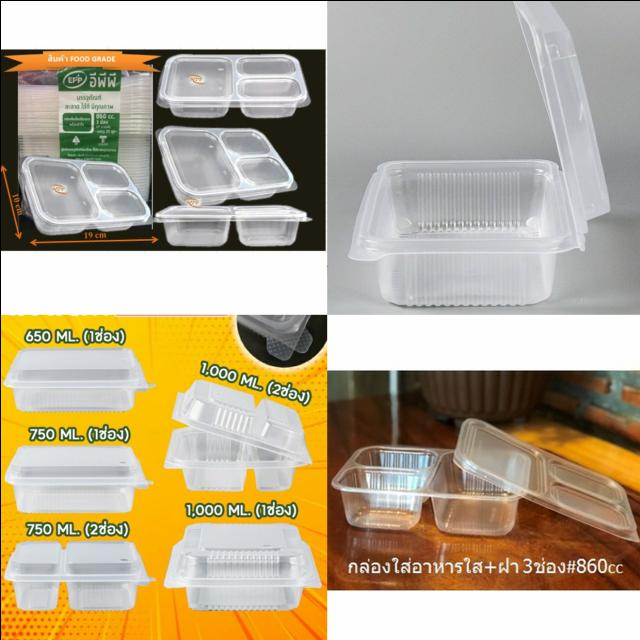plastik: (348, 0, 609, 305), (453, 417, 638, 540), (330, 444, 518, 534), (164, 380, 311, 491), (164, 523, 320, 609), (155, 125, 295, 205), (19, 155, 149, 234), (4, 540, 152, 609), (4, 444, 149, 512), (156, 53, 309, 117), (4, 347, 151, 410), (153, 204, 309, 246)
